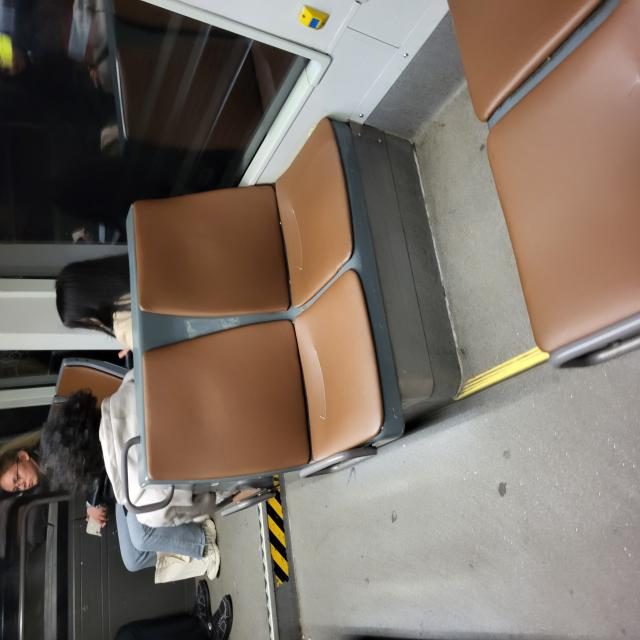asiento-libre: (118, 189, 278, 511), (120, 188, 278, 512), (243, 177, 393, 472), (242, 178, 392, 471), (388, 596, 480, 640)
